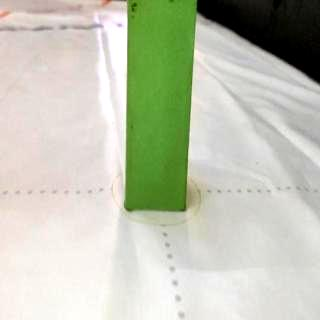greenbox: (124, 0, 197, 213)
